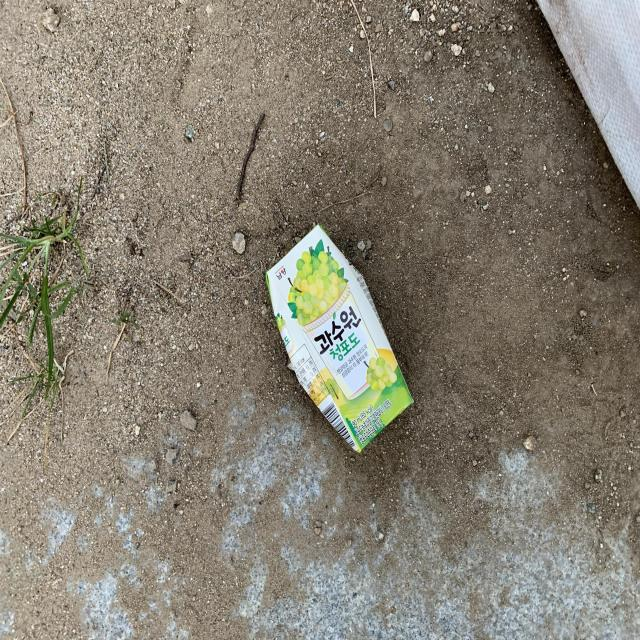paperpack: (266, 224, 413, 453)
